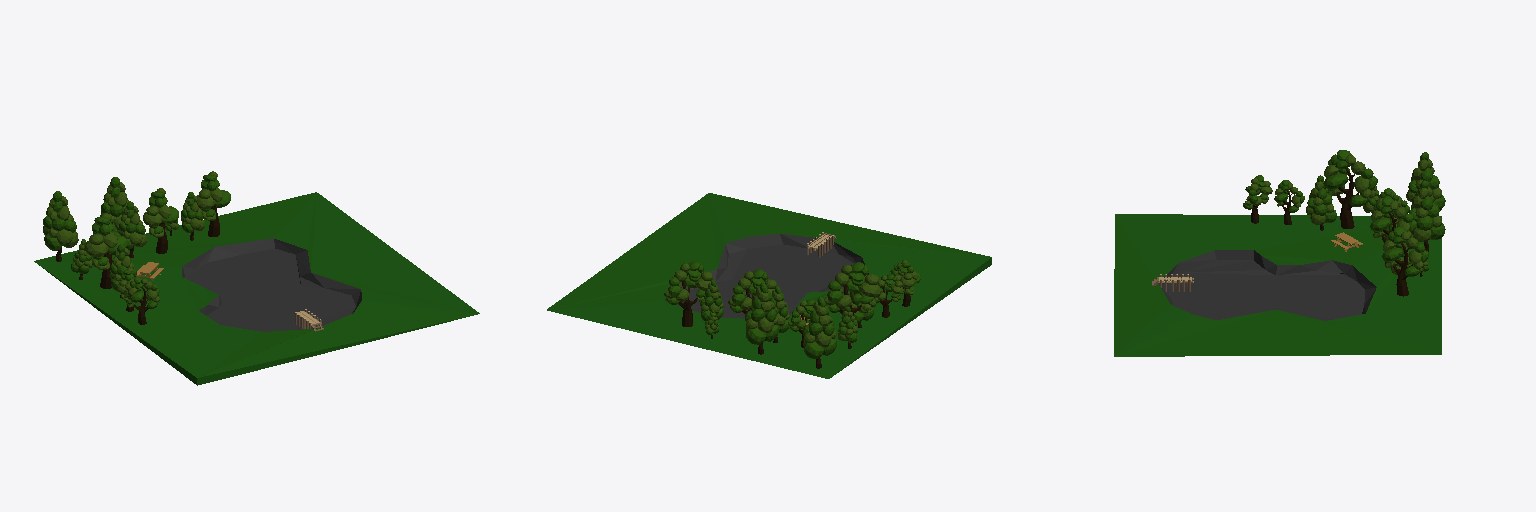
The model's file is Park3.obj.
The picture shows the model from 3 angles: view 1: azimuth 30°, elevation 25°; view 2: azimuth 150°, elevation 25°; view 3: azimuth 270°, elevation 25°; orthographic projection.
Visible parts, largest first — view 1: Ground_Grid; view 2: Ground_Grid; view 3: Ground_Grid.
Part boxes in pixels (x1,y1,x2,y2): Ground_Grid: (34,171,479,385); Ground_Grid: (547,193,991,378); Ground_Grid: (1114,150,1445,356).
Bounding box in the file's own units: 60 × 18.41 × 60.73.